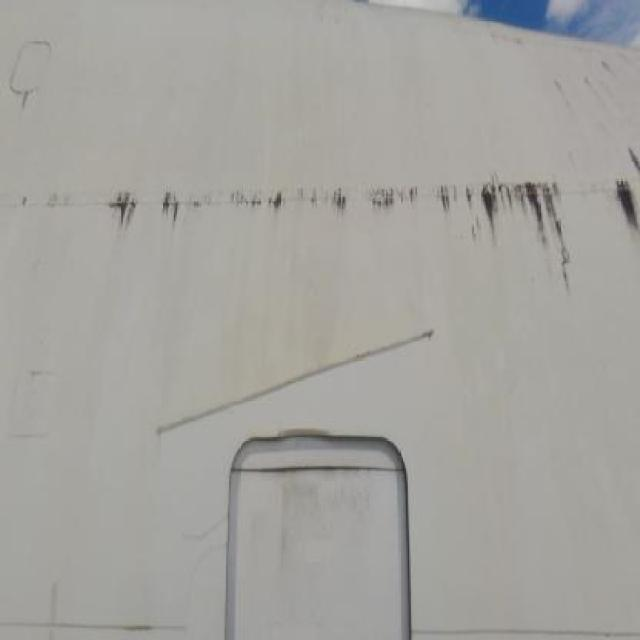Scartch: (35, 137, 640, 306), (140, 320, 452, 428)
